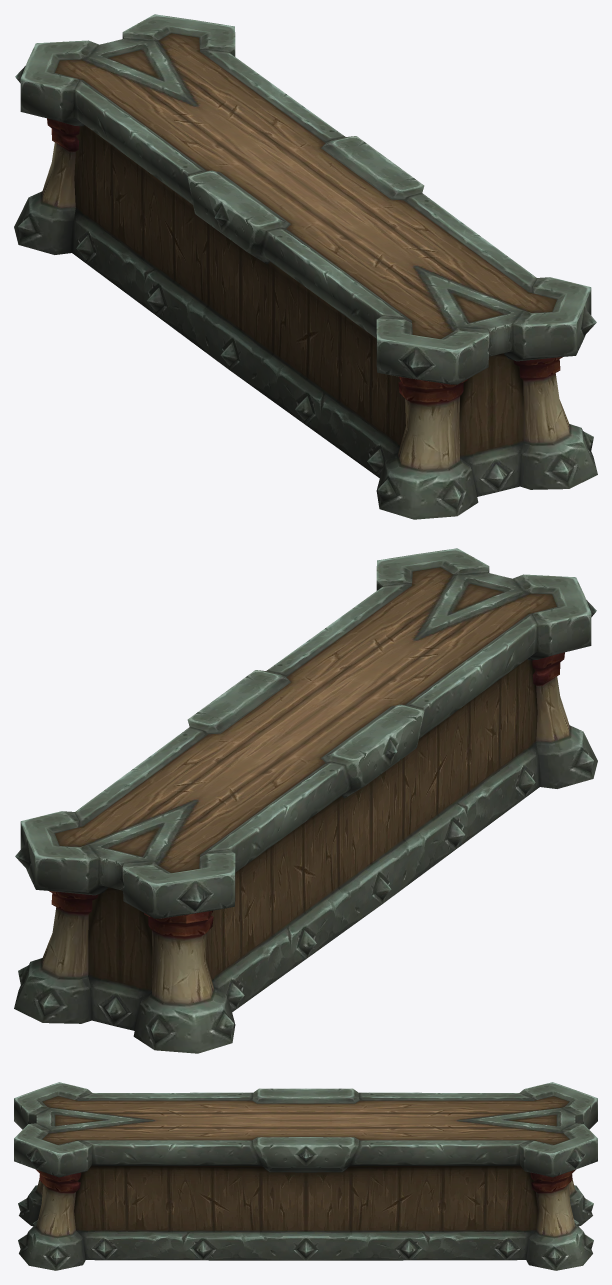
The picture shows the model from 3 angles, top to bottom: view 1: azimuth 30°, elevation 25°; view 2: azimuth 150°, elevation 25°; view 3: azimuth 270°, elevation 25°; orthographic projection. The views are drawn at different scales.
Bounding box in the file's own units: 1.67 × 1.25 × 5.63.
Materials: 1 (1 with a texture image).
